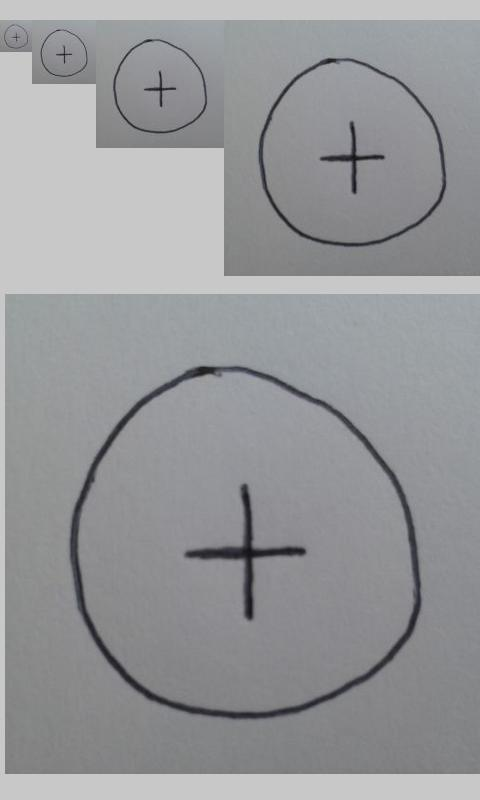button: (65, 361, 423, 723), (257, 56, 448, 247), (112, 38, 208, 134), (39, 28, 88, 78), (3, 24, 28, 49)
